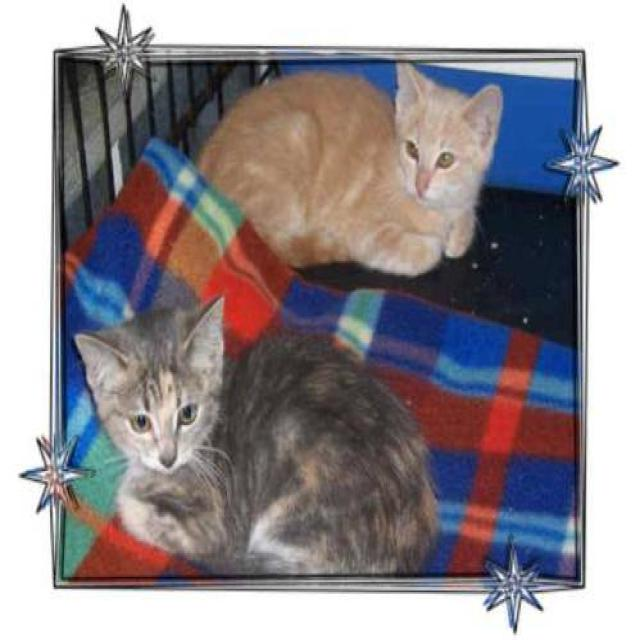cat: (72, 292, 440, 577), (195, 60, 503, 278)
